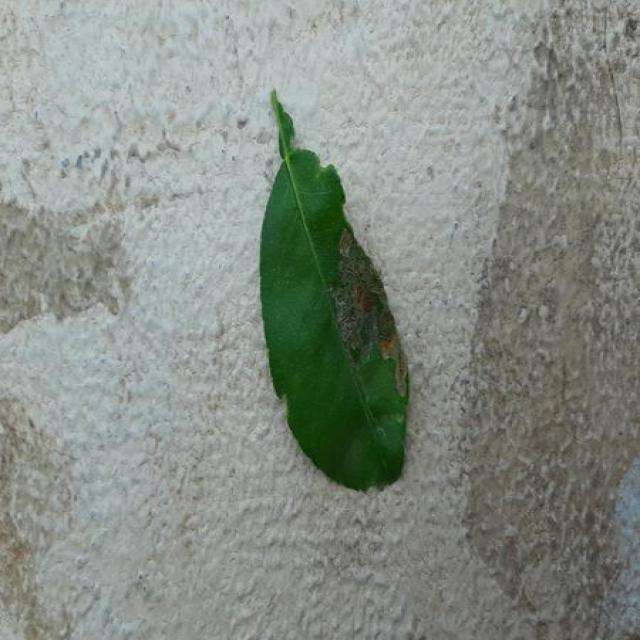bacterial blast: (298, 225, 408, 489)
lemon: (260, 91, 408, 489)
